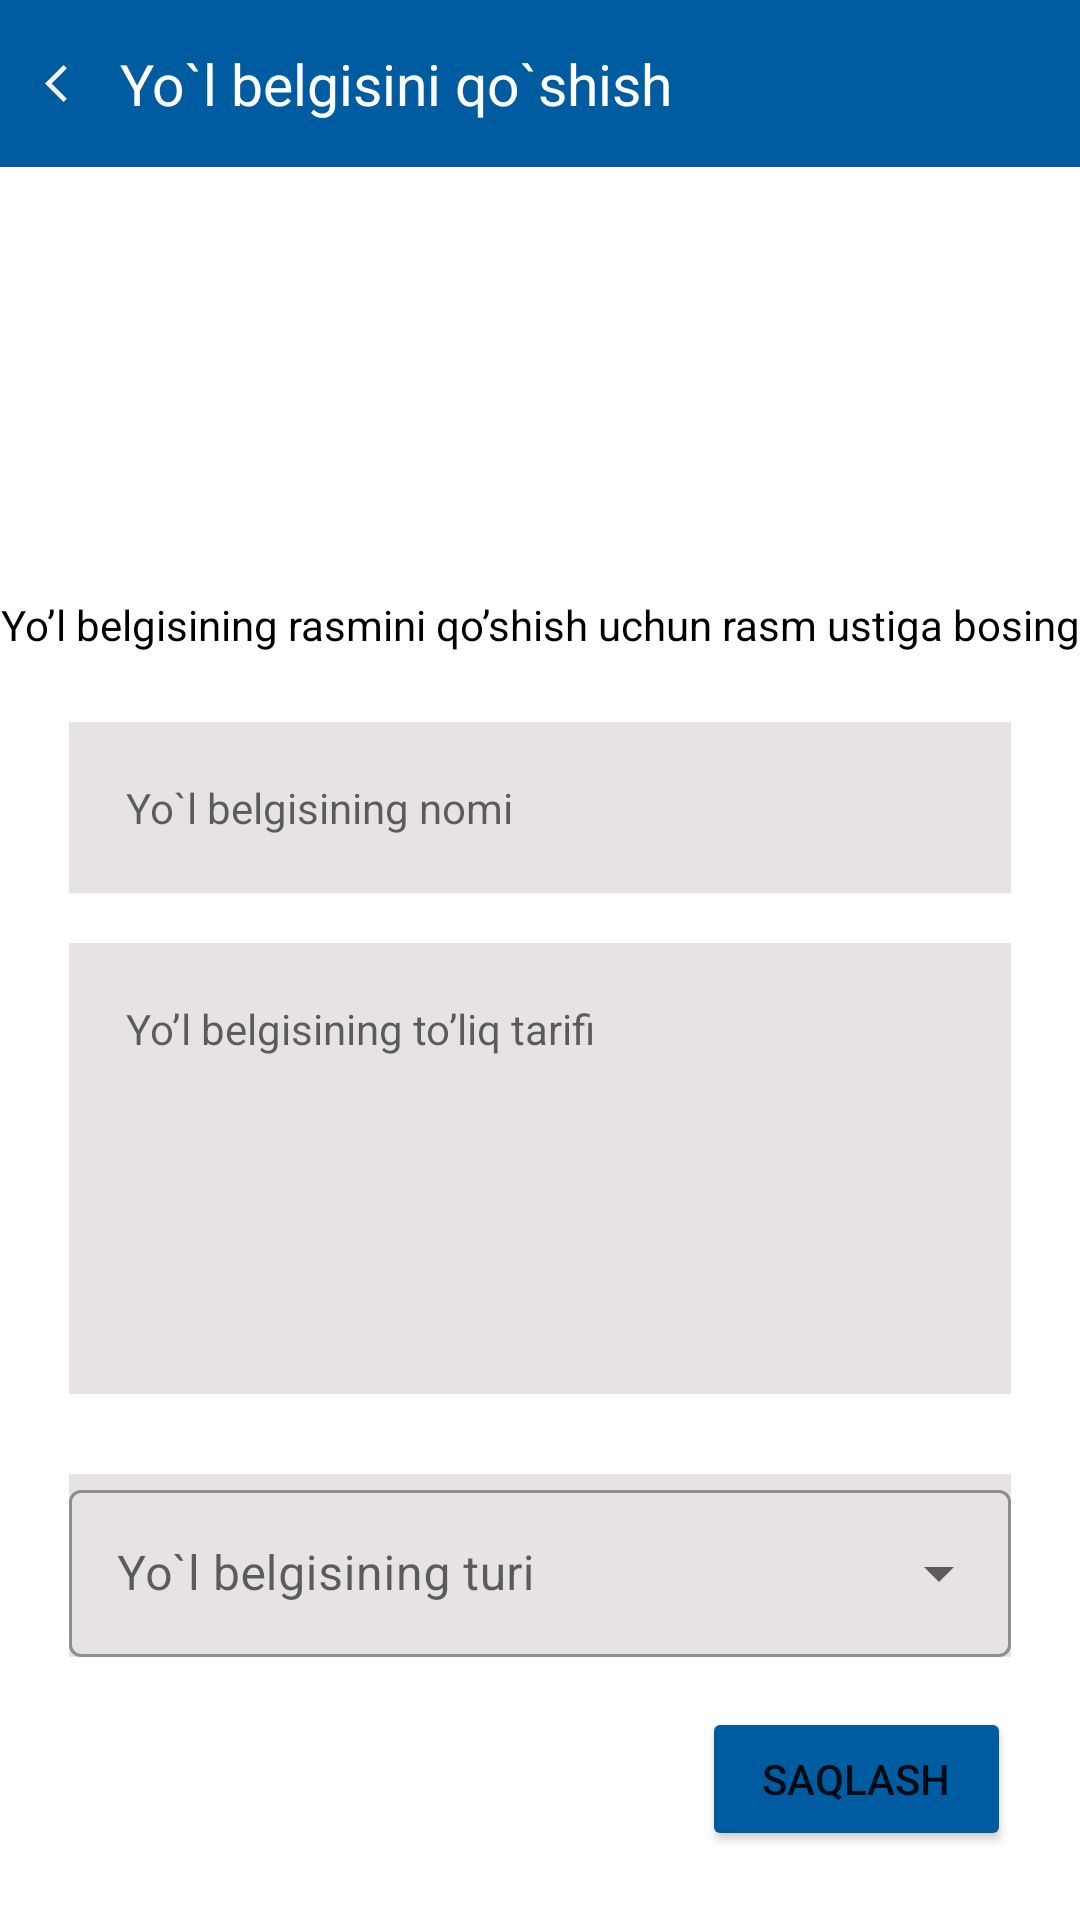

Named icons in this screenshot (1080px x 1920px) and their bounding boxes, {"x1": x1, "y1": y1, "x2": x2, "y2": y2}:
arrow back: {"x1": 45, "y1": 65, "x2": 67, "y2": 102}
